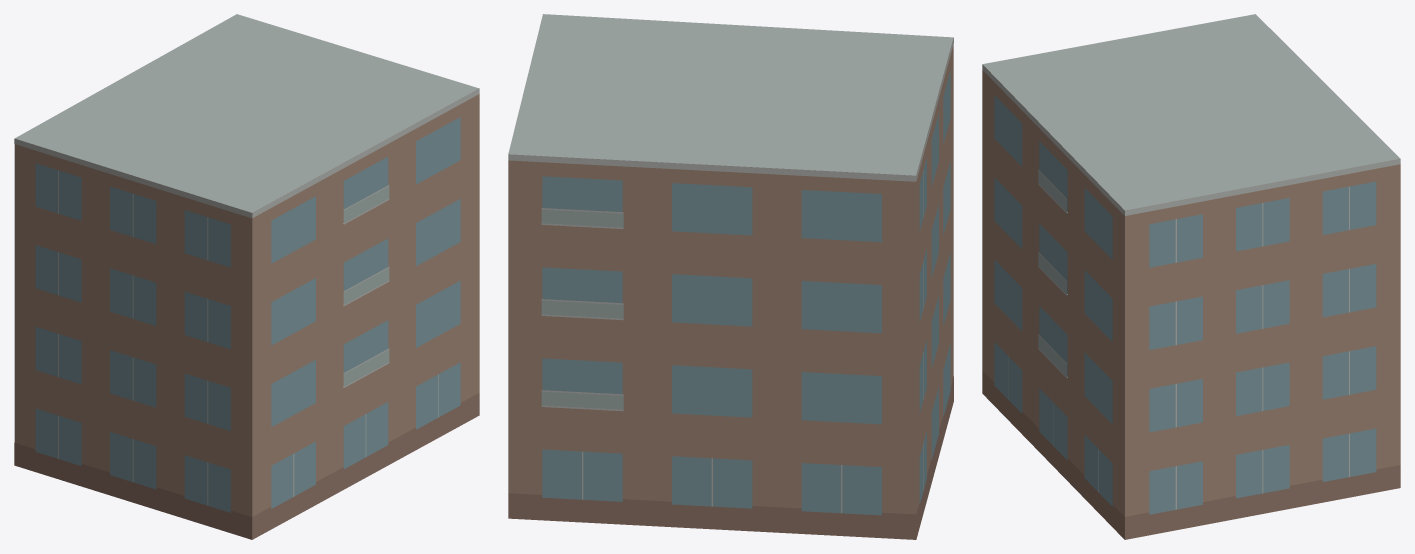
The model's file is survey-upis-32741495.glb.
The picture shows the model from 3 angles, left to right: view 1: azimuth 30°, elevation 25°; view 2: azimuth 150°, elevation 25°; view 3: azimuth 270°, elevation 25°; orthographic projection. The views are drawn at different scales.
Visible parts, largest first — view 1: survey-upis-32741495.tmp; view 2: survey-upis-32741495.tmp; view 3: survey-upis-32741495.tmp.
Part boxes in pixels (box(x1,y1,x2,y2)): survey-upis-32741495.tmp: box(14, 14, 479, 539); survey-upis-32741495.tmp: box(508, 14, 953, 539); survey-upis-32741495.tmp: box(982, 14, 1400, 539).
Bounding box in the file's own units: 18.64 × 14.55 × 16.76.
